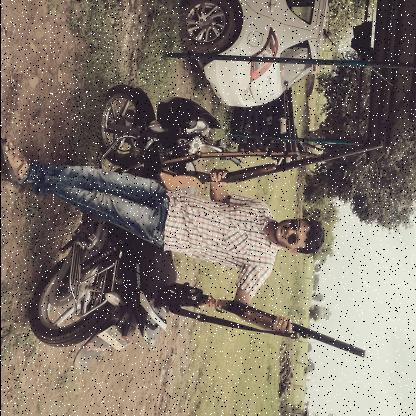rifle: (151, 280, 368, 360), (155, 138, 385, 193)
